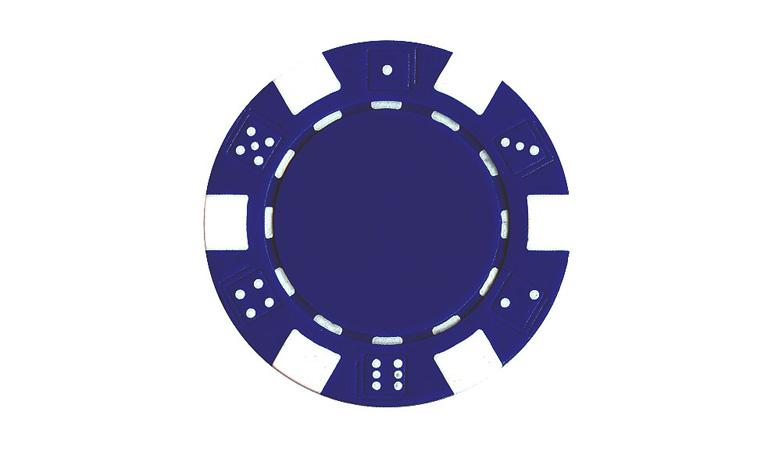chip-blue: (204, 42, 568, 407)
